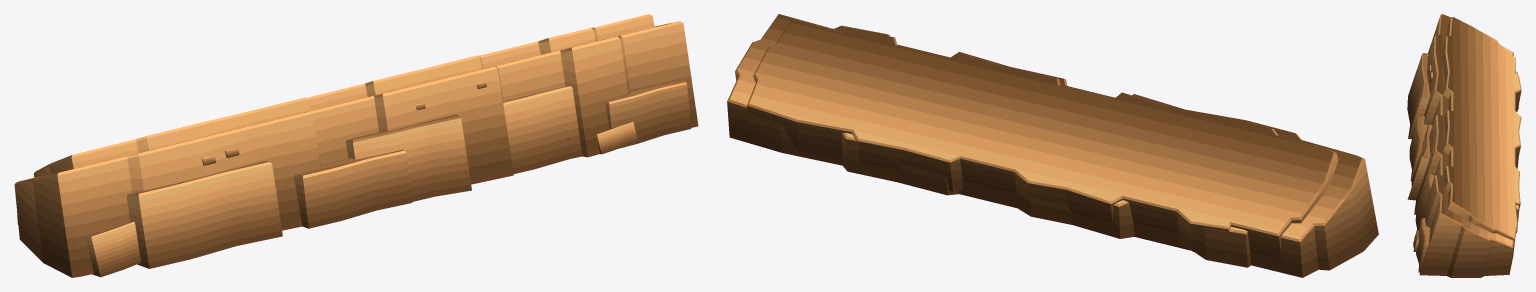
The model's file is cliff_009.fbx.
3 views of the same model, side by side, from view 1: azimuth 30°, elevation 25°; view 2: azimuth 150°, elevation 25°; view 3: azimuth 270°, elevation 25° (orthographic). The views are drawn at different scales.
Parts seen in each view (by area): view 1: cliff.009; view 2: cliff.009; view 3: cliff.009.
Part boxes in pixels (x1,y1,x2,y2): cliff.009: (14, 14, 698, 277); cliff.009: (727, 14, 1378, 277); cliff.009: (1407, 14, 1521, 277).
Size of the model in its own units: 552 by 87.53 by 130.
